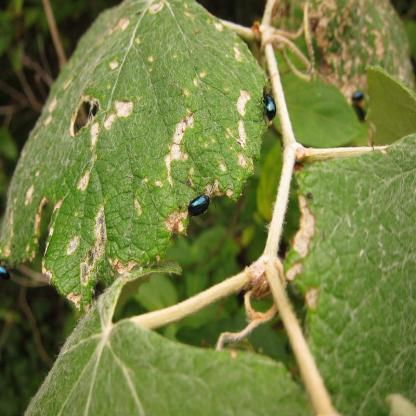beetle: (184, 192, 216, 221), (260, 82, 276, 121), (350, 82, 366, 110)
